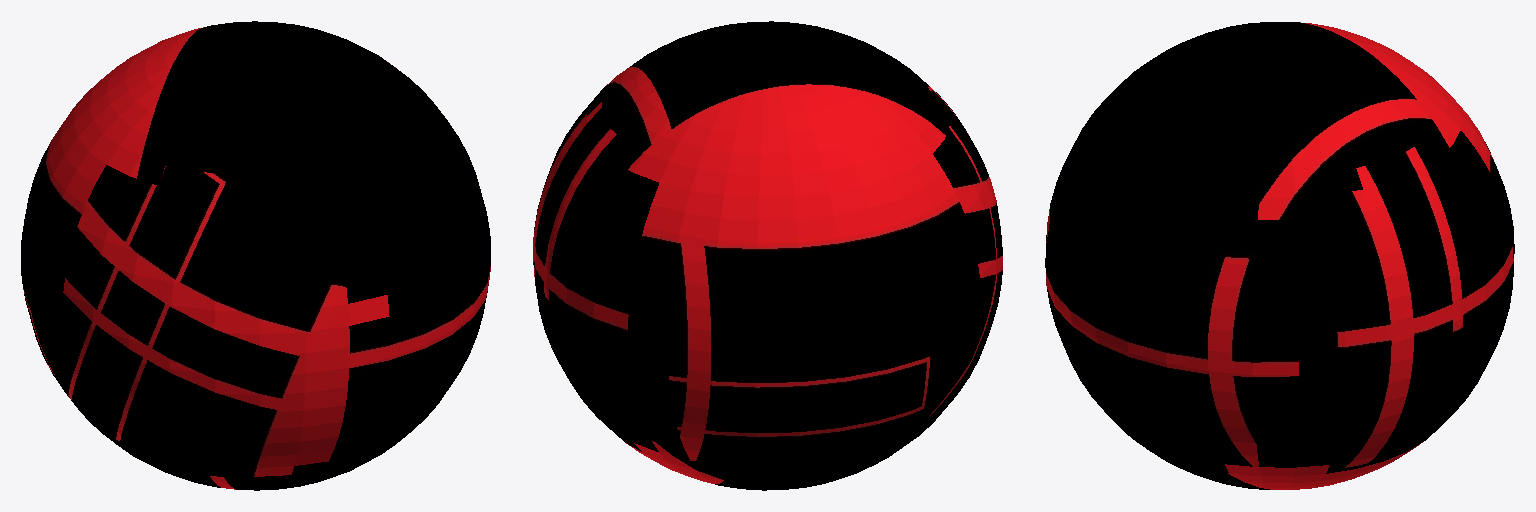
3 renders of one model, left to right at view 1: azimuth 30°, elevation 25°; view 2: azimuth 150°, elevation 25°; view 3: azimuth 270°, elevation 25°, orthographic.
Visible parts, largest first — view 1: Uranus.001_Sphere.006; view 2: Uranus.001_Sphere.006; view 3: Uranus.001_Sphere.006.
Part boxes in pixels (left/top/right/bottom): Uranus.001_Sphere.006: left=21, top=21, right=490, bottom=490; Uranus.001_Sphere.006: left=533, top=21, right=1002, bottom=490; Uranus.001_Sphere.006: left=1045, top=22, right=1514, bottom=489.
Bounding box in the file's own units: 2.56 × 2.56 × 2.56.
Materials: 1 (1 with a texture image).